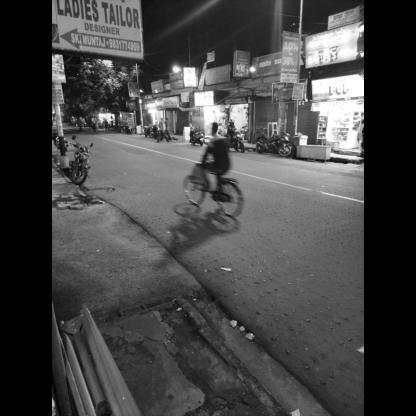Bicycle: (172, 154, 250, 229)
